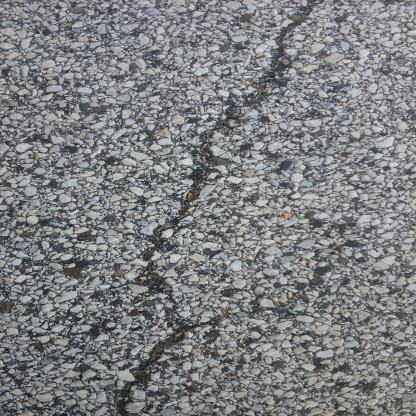Cracks: (107, 0, 322, 415)
